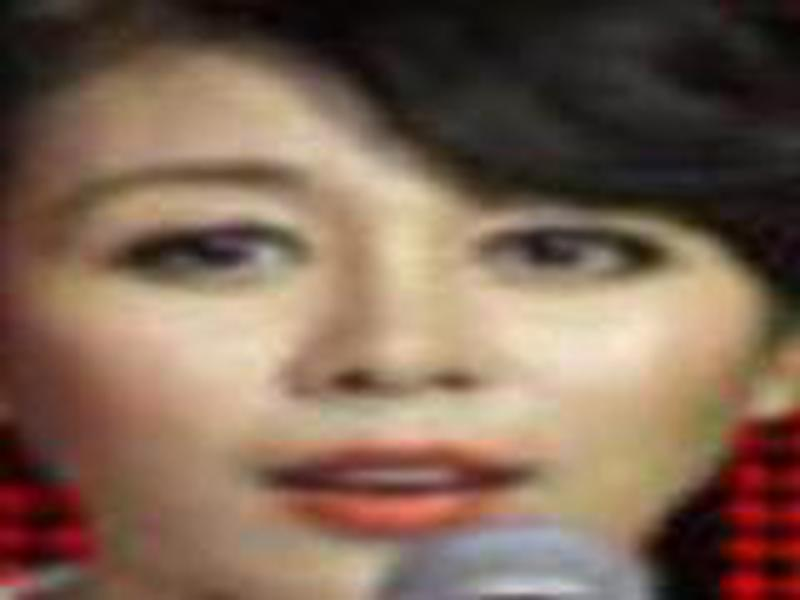without_mask: (16, 51, 766, 593)
